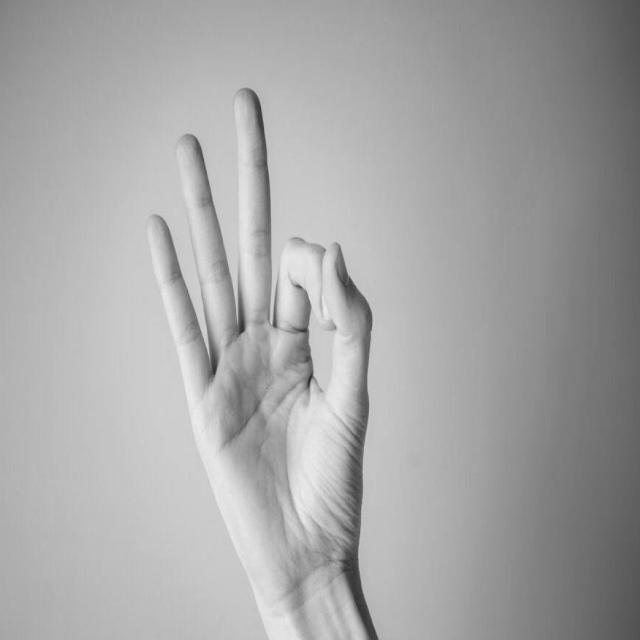perfect: (142, 80, 384, 619)
